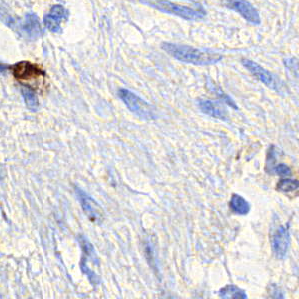Lymphocyte: (12, 58, 48, 82)
